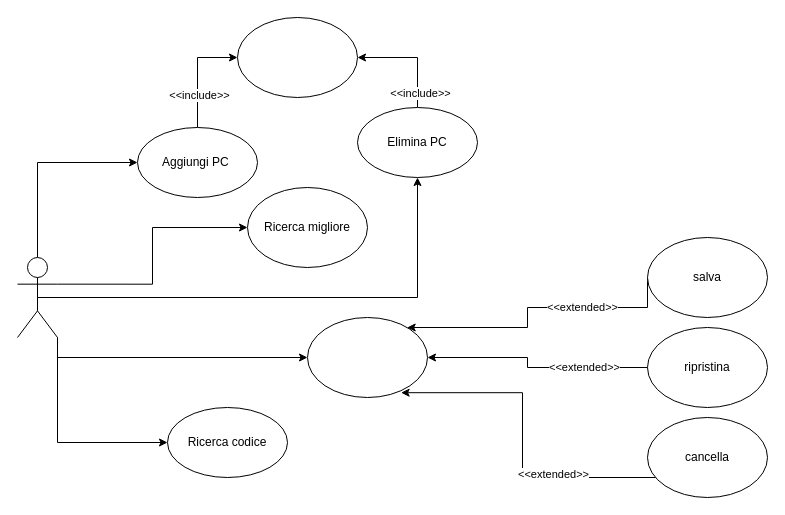
Image size: 785x515. Some labels were removed from this diagram. The centre of each missing label's shape, as x and y in pixels:
Actor: the point at 37,297
file: the point at 367,357
Seleziona PC: the point at 297,57
